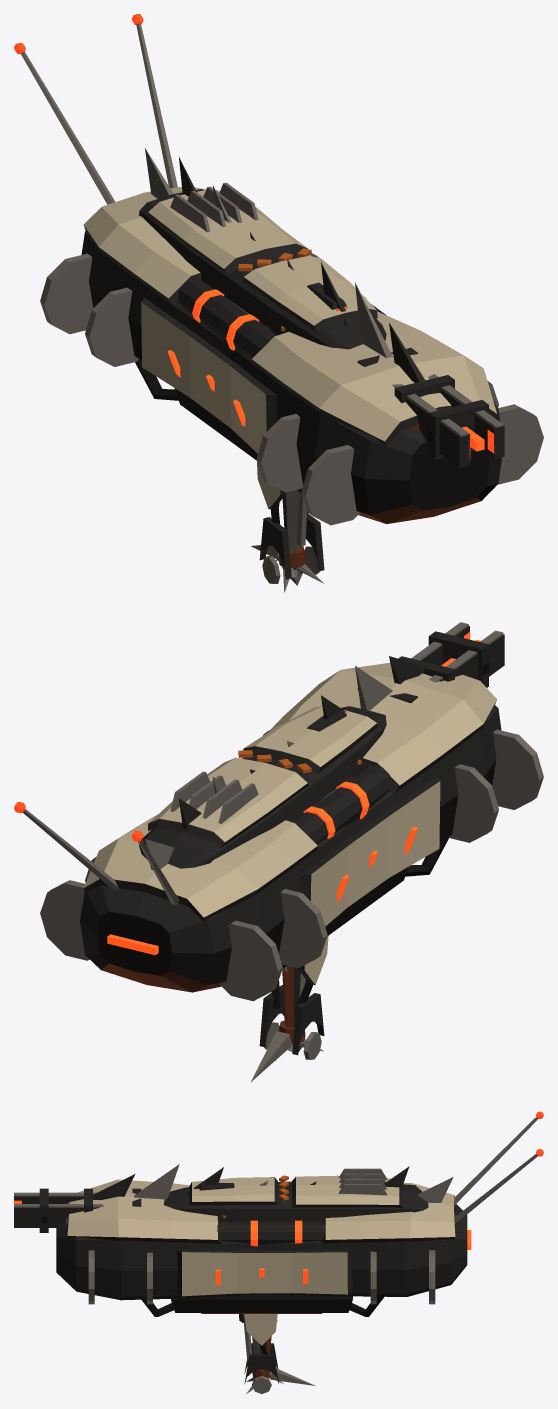
The model's file is runner.glb.
3 views of the same model, one above another, from view 1: azimuth 30°, elevation 25°; view 2: azimuth 150°, elevation 25°; view 3: azimuth 270°, elevation 25° (orthographic). The views are drawn at different scales.
Visible parts, largest first — view 1: Runner_Body, Runner_Rifle, Runner_ThighL, Runner_ThighR, Runner_ShinR, Runner_ShinL; view 2: Runner_Body, Runner_Rifle, Runner_ThighL, Runner_ThighR, Runner_ShinL; view 3: Runner_Body, Runner_Rifle, Runner_ThighL.
Boxes of the visible parts, x1,y1,x2,y2 form: Runner_Body: (14, 14, 543, 525); Runner_Rifle: (139, 182, 504, 467); Runner_ThighL: (251, 501, 324, 583); Runner_ThighR: (252, 462, 317, 583); Runner_ShinR: (276, 490, 323, 592); Runner_ShinL: (276, 495, 322, 591); Runner_Body: (14, 656, 543, 1001); Runner_Rifle: (139, 622, 504, 868); Runner_ThighL: (251, 966, 324, 1081); Runner_ThighR: (252, 936, 328, 1080); Runner_ShinL: (279, 966, 322, 1051); Runner_Body: (56, 1111, 543, 1316); Runner_Rifle: (14, 1168, 428, 1246); Runner_ThighL: (239, 1314, 315, 1393).
Size of the model in its own units: 0.89 by 1.42 by 2.63.
